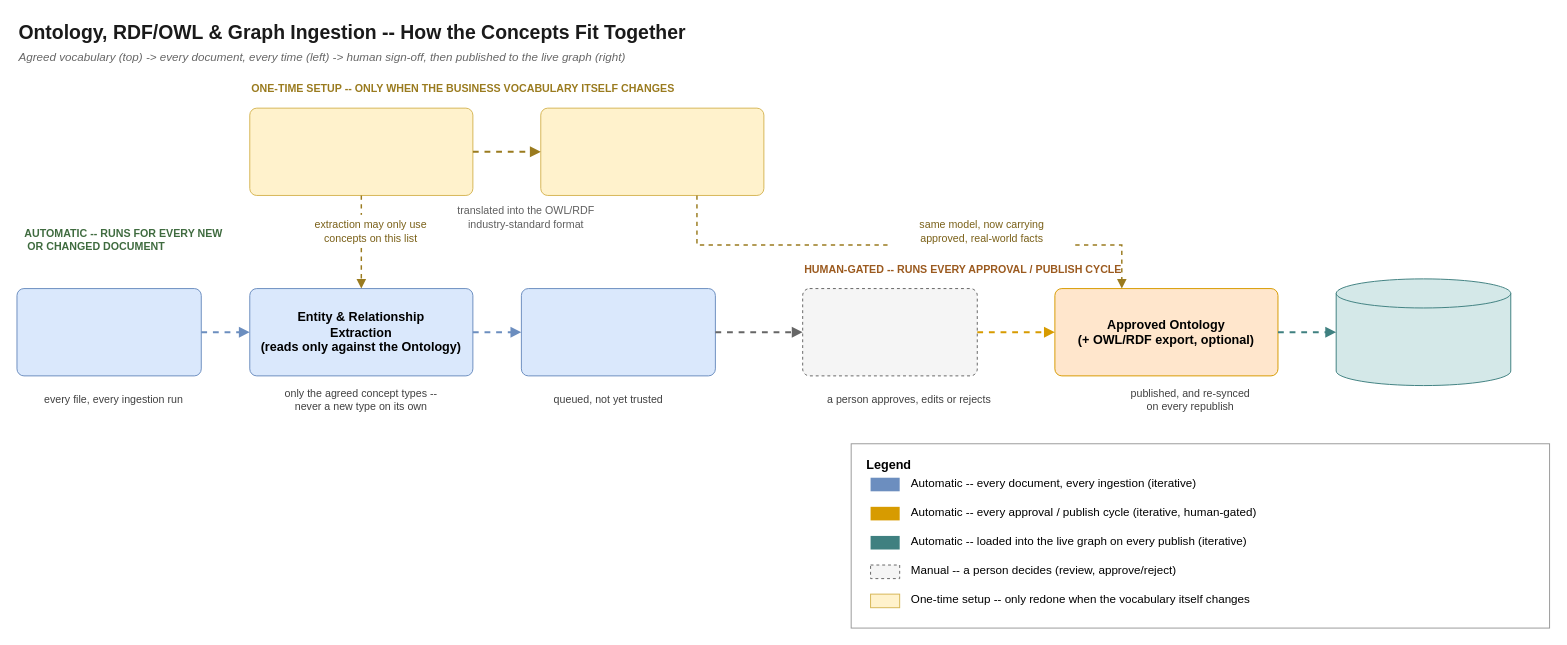
Some shapes in this 1567 by 645 pixel diagram are drawn without their labels. The centre of each missing label's shape, as x and y in pixels:
"Business Vocabulary (the Ontology: agreed concepts & relationship types)" belongs at point 361,151.
"Draft Knowledge (Candidate Graph)" belongs at point 617,332.
"Formal OWL/RDF Model (written as Turtle / .ttl files)" belongs at point 652,151.
"Human Review & Approval" belongs at point 889,332.
"Live Knowledge Graph (Neo4j, RDF-ready)" belongs at point 1423,332.
"New or Changed Document" belongs at point 108,332.
